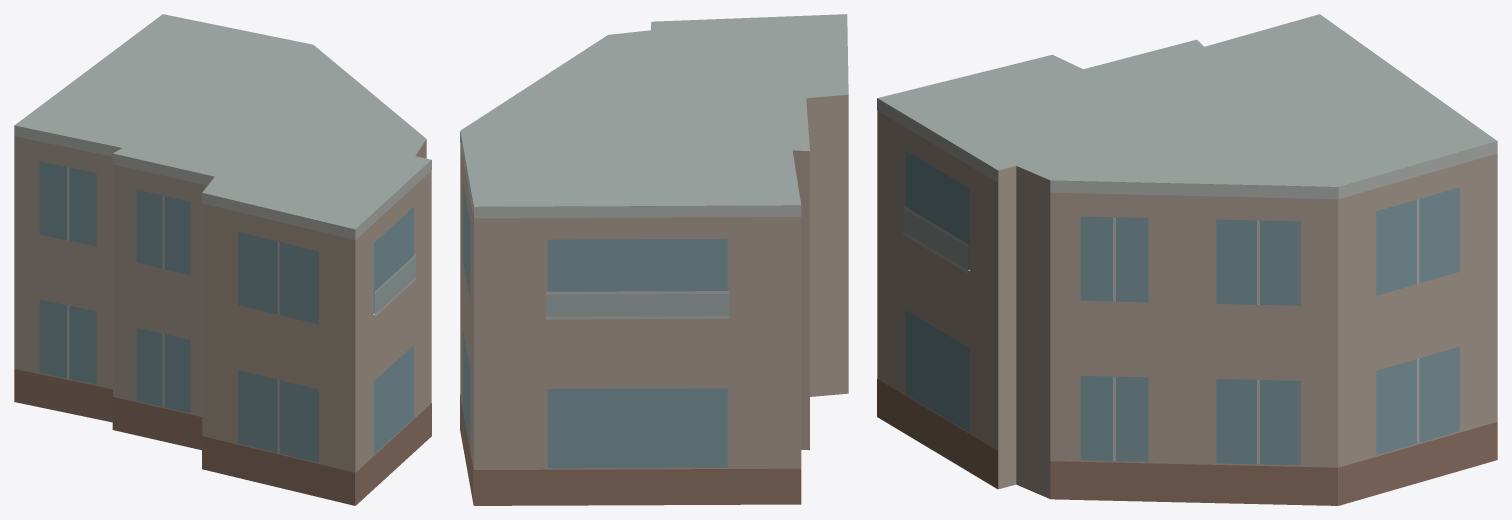
The model's file is survey-upis-32509618.glb.
3 views of the same model, side by side, from view 1: azimuth 30°, elevation 25°; view 2: azimuth 150°, elevation 25°; view 3: azimuth 270°, elevation 25° (orthographic). The views are drawn at different scales.
Parts seen in each view (by area): view 1: survey-upis-32509618.tmp; view 2: survey-upis-32509618.tmp; view 3: survey-upis-32509618.tmp.
Boxes of the visible parts, x1,y1,x2,y2 form: survey-upis-32509618.tmp: (14, 14, 431, 505); survey-upis-32509618.tmp: (460, 14, 848, 505); survey-upis-32509618.tmp: (877, 14, 1497, 505).
Size of the model in its own units: 7.34 by 6.3 by 11.12.
